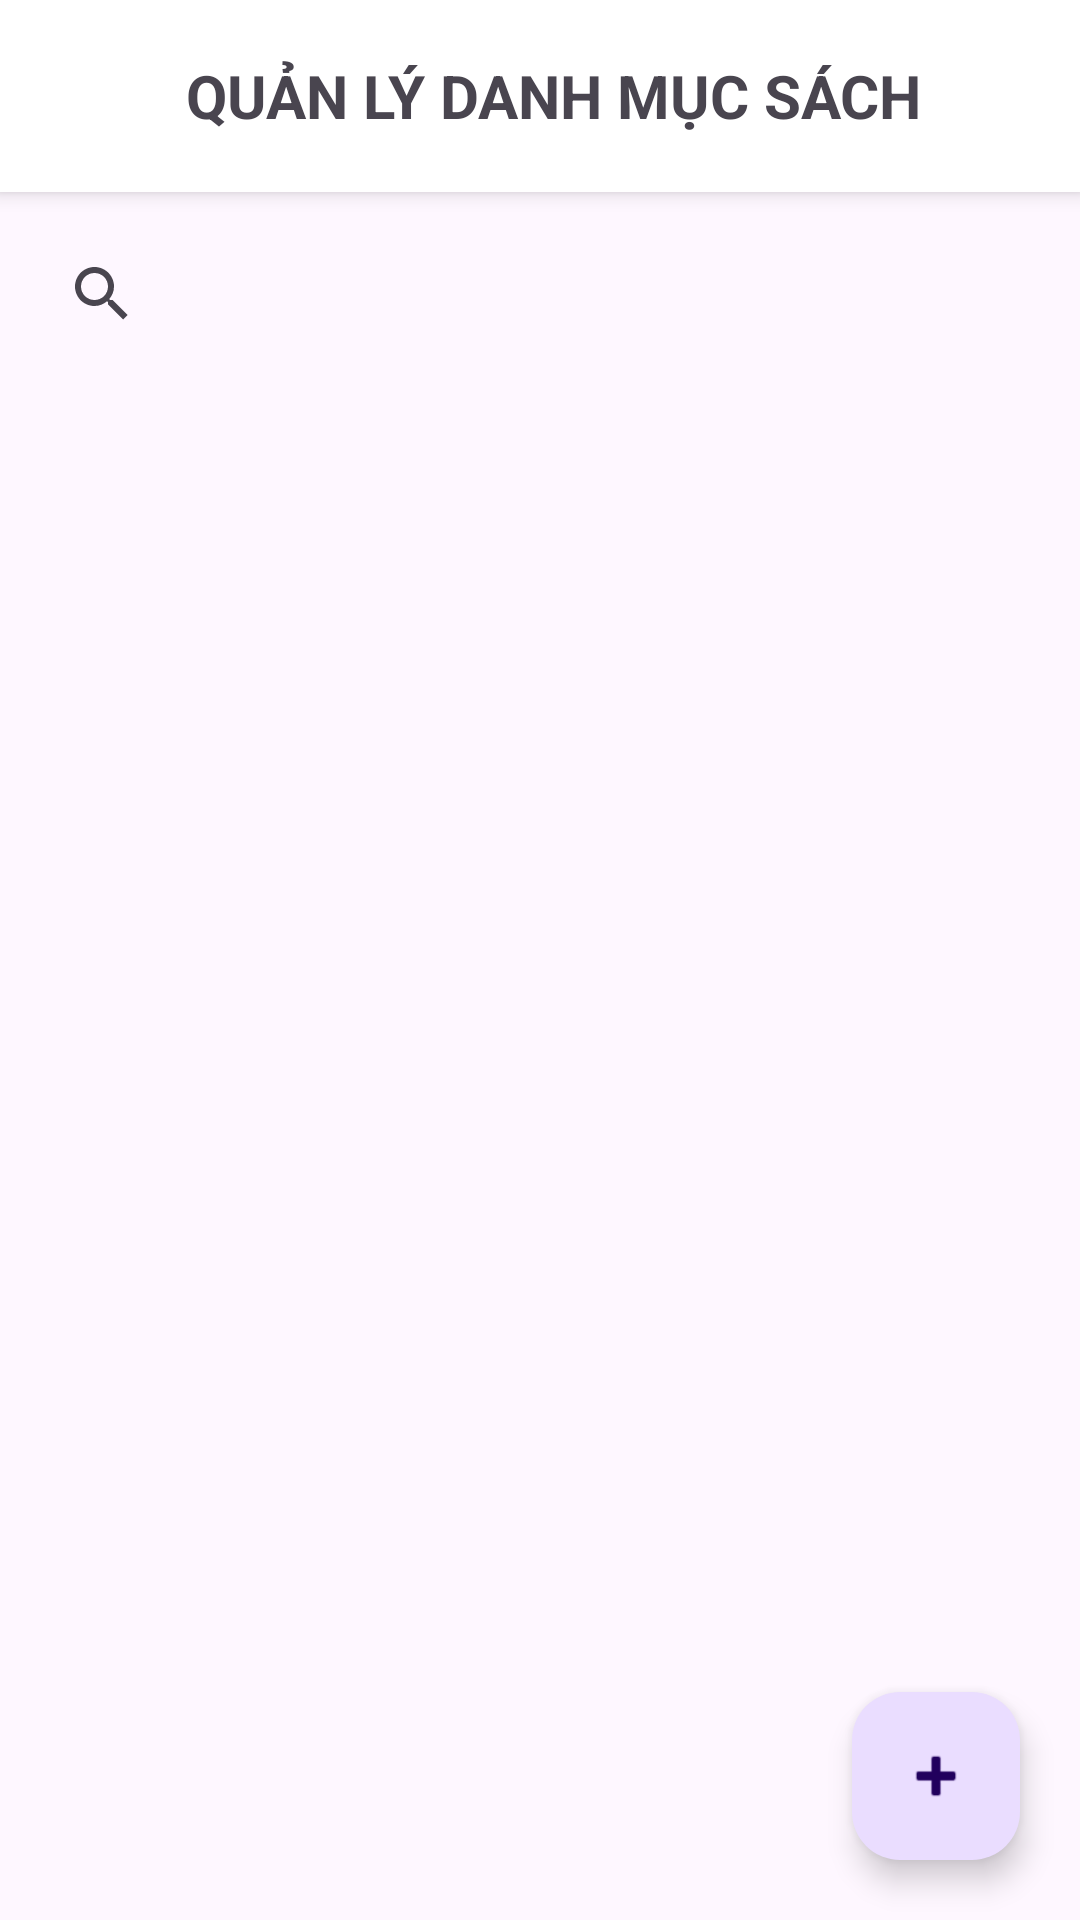

Screen size 1080w x 1920h. Icon name, then its center in pixels as [x,y]:
Add Category: [936,1776]
